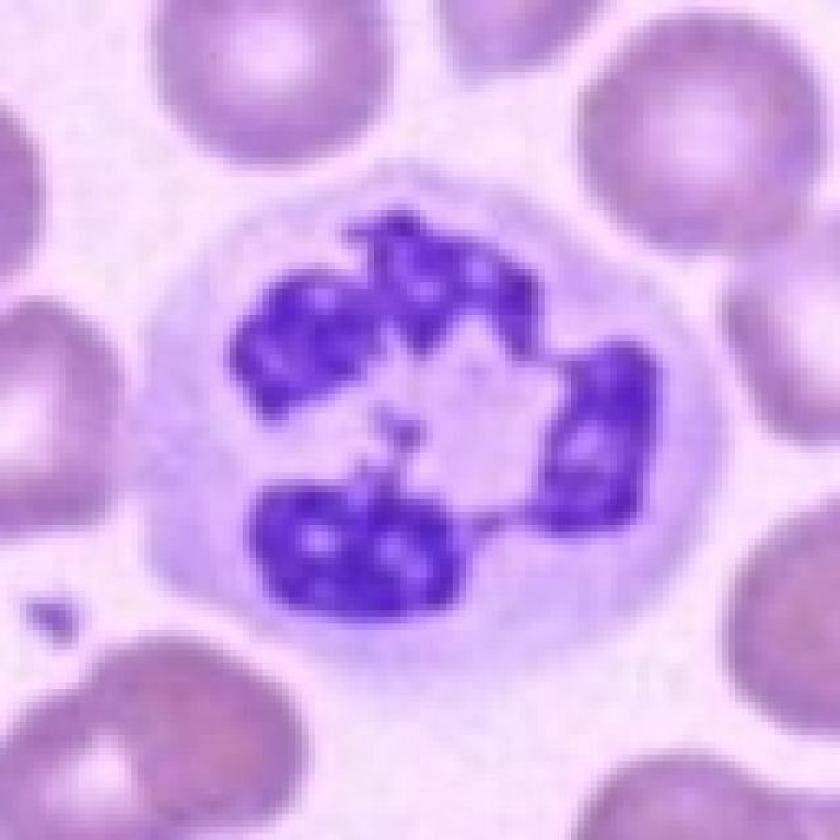neutrophil: (147, 198, 768, 732)
